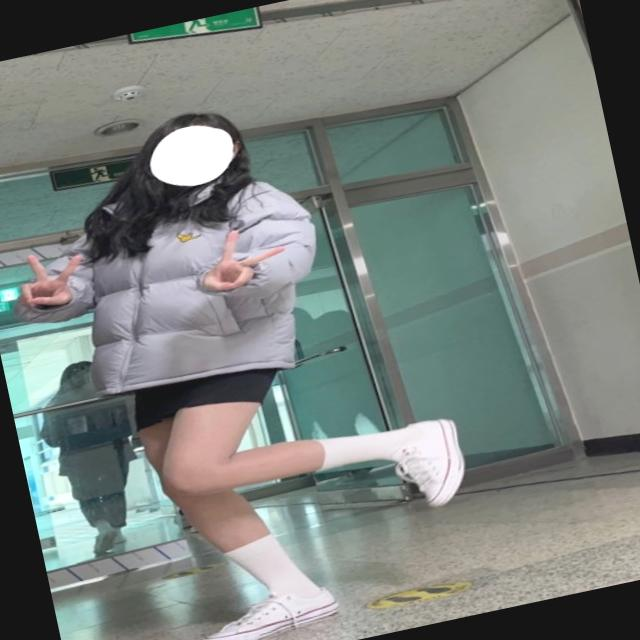padding: (0, 152, 343, 423)
skirt: (131, 354, 283, 434)
